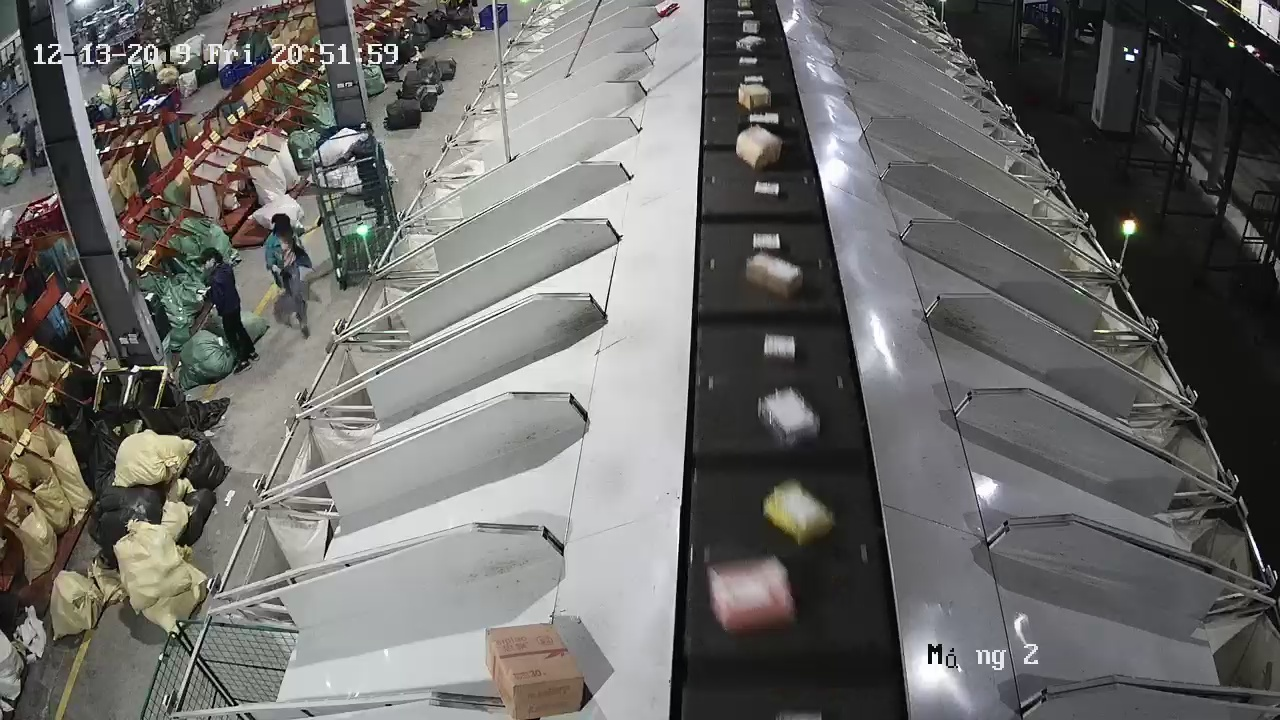parcel: (705, 552, 799, 637)
